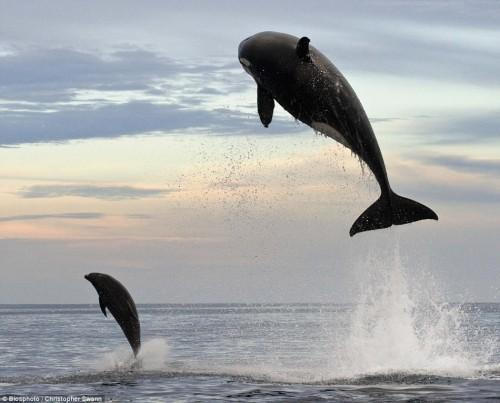fish: (233, 30, 442, 239), (82, 272, 153, 364)
